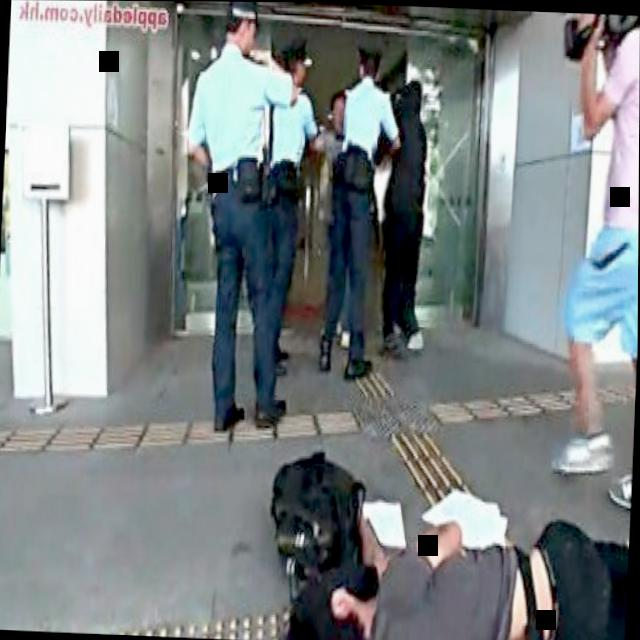Fall-Detected: (315, 477, 631, 640)
